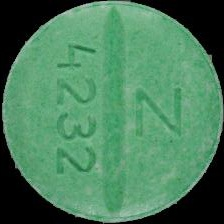0093-4232: (0, 0, 224, 224)
